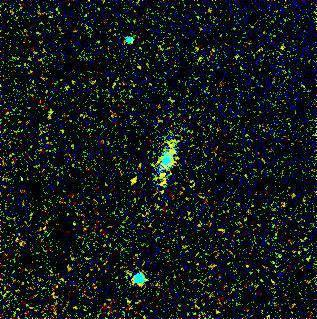star: (118, 166, 148, 196)
